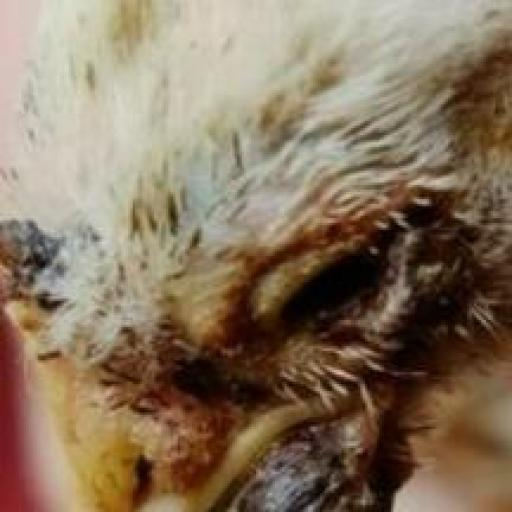disease: (149, 225, 512, 358)
